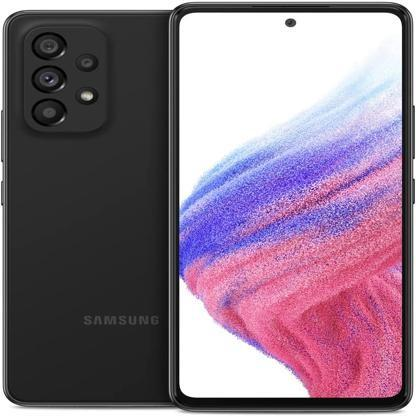not trash: (0, 8, 415, 413), (166, 2, 410, 408), (2, 10, 168, 405)
